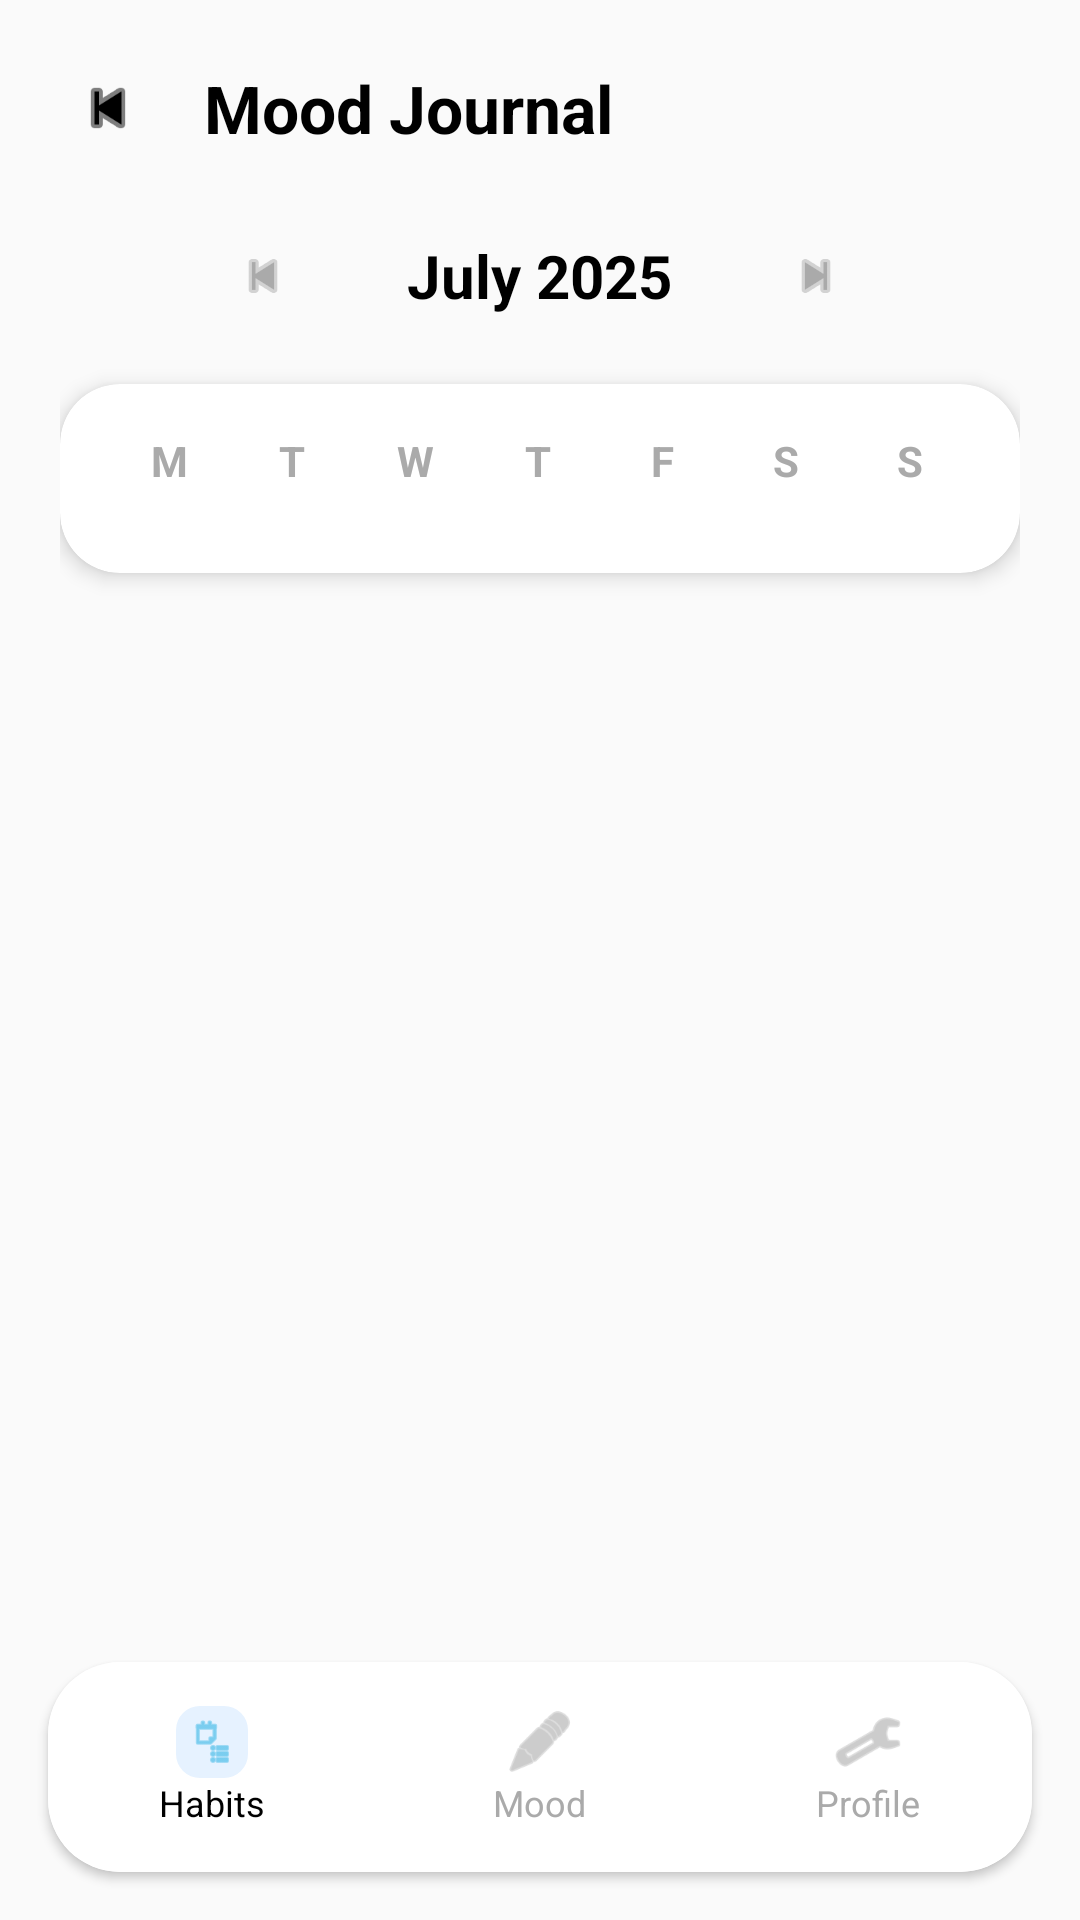

Screen size 1080×1920. Icon name, then its box in pixels as (x1, y1, x2, y2):
agenda: (176, 1706, 248, 1778)
edit: (510, 1711, 570, 1771)
manage: (836, 1718, 900, 1766)
next: (802, 259, 830, 293)
previous: (91, 88, 125, 128), (249, 259, 277, 293)
